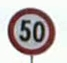limite 50: (6, 7, 55, 54)
